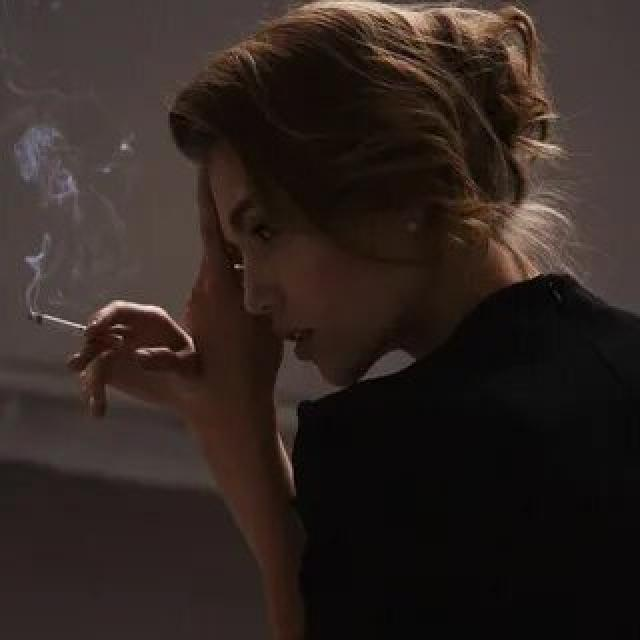cigarette: (22, 306, 130, 350)
